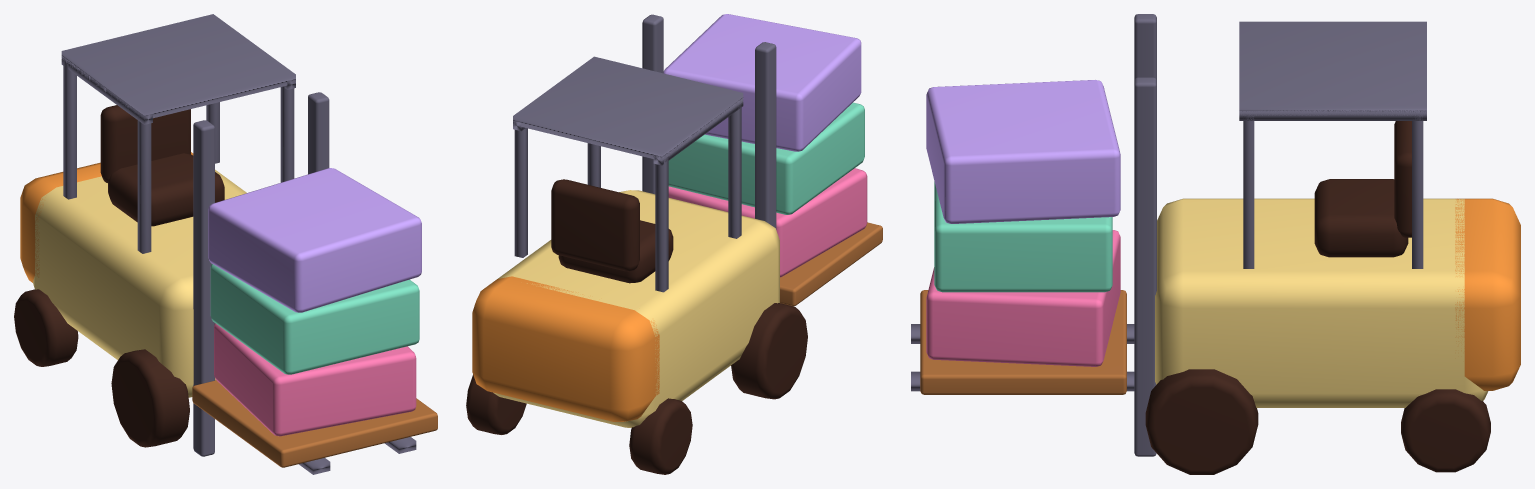
The model's file is candy_forklift.glb.
The picture shows the model from 3 angles, left to right: view 1: azimuth 30°, elevation 25°; view 2: azimuth 150°, elevation 25°; view 3: azimuth 270°, elevation 25°; orthographic projection. The views are drawn at different scales.
Parts seen in each view (by area): view 1: Forklift; view 2: Forklift; view 3: Forklift.
Part boxes in pixels (left/top/right/bottom): Forklift: left=14, top=14, right=437, bottom=474; Forklift: left=466, top=14, right=882, bottom=474; Forklift: left=911, top=14, right=1520, bottom=474.
Size of the model in its own units: 1.45 by 2.2 by 3.25.
